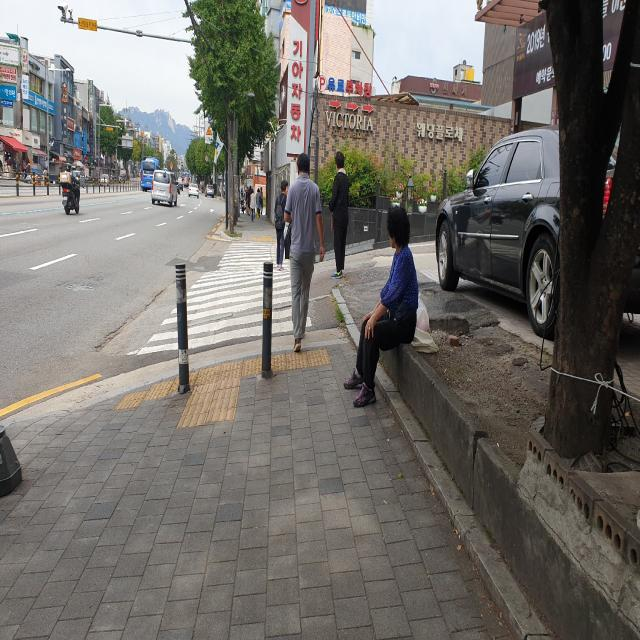횡단보도: (136, 240, 312, 357)
